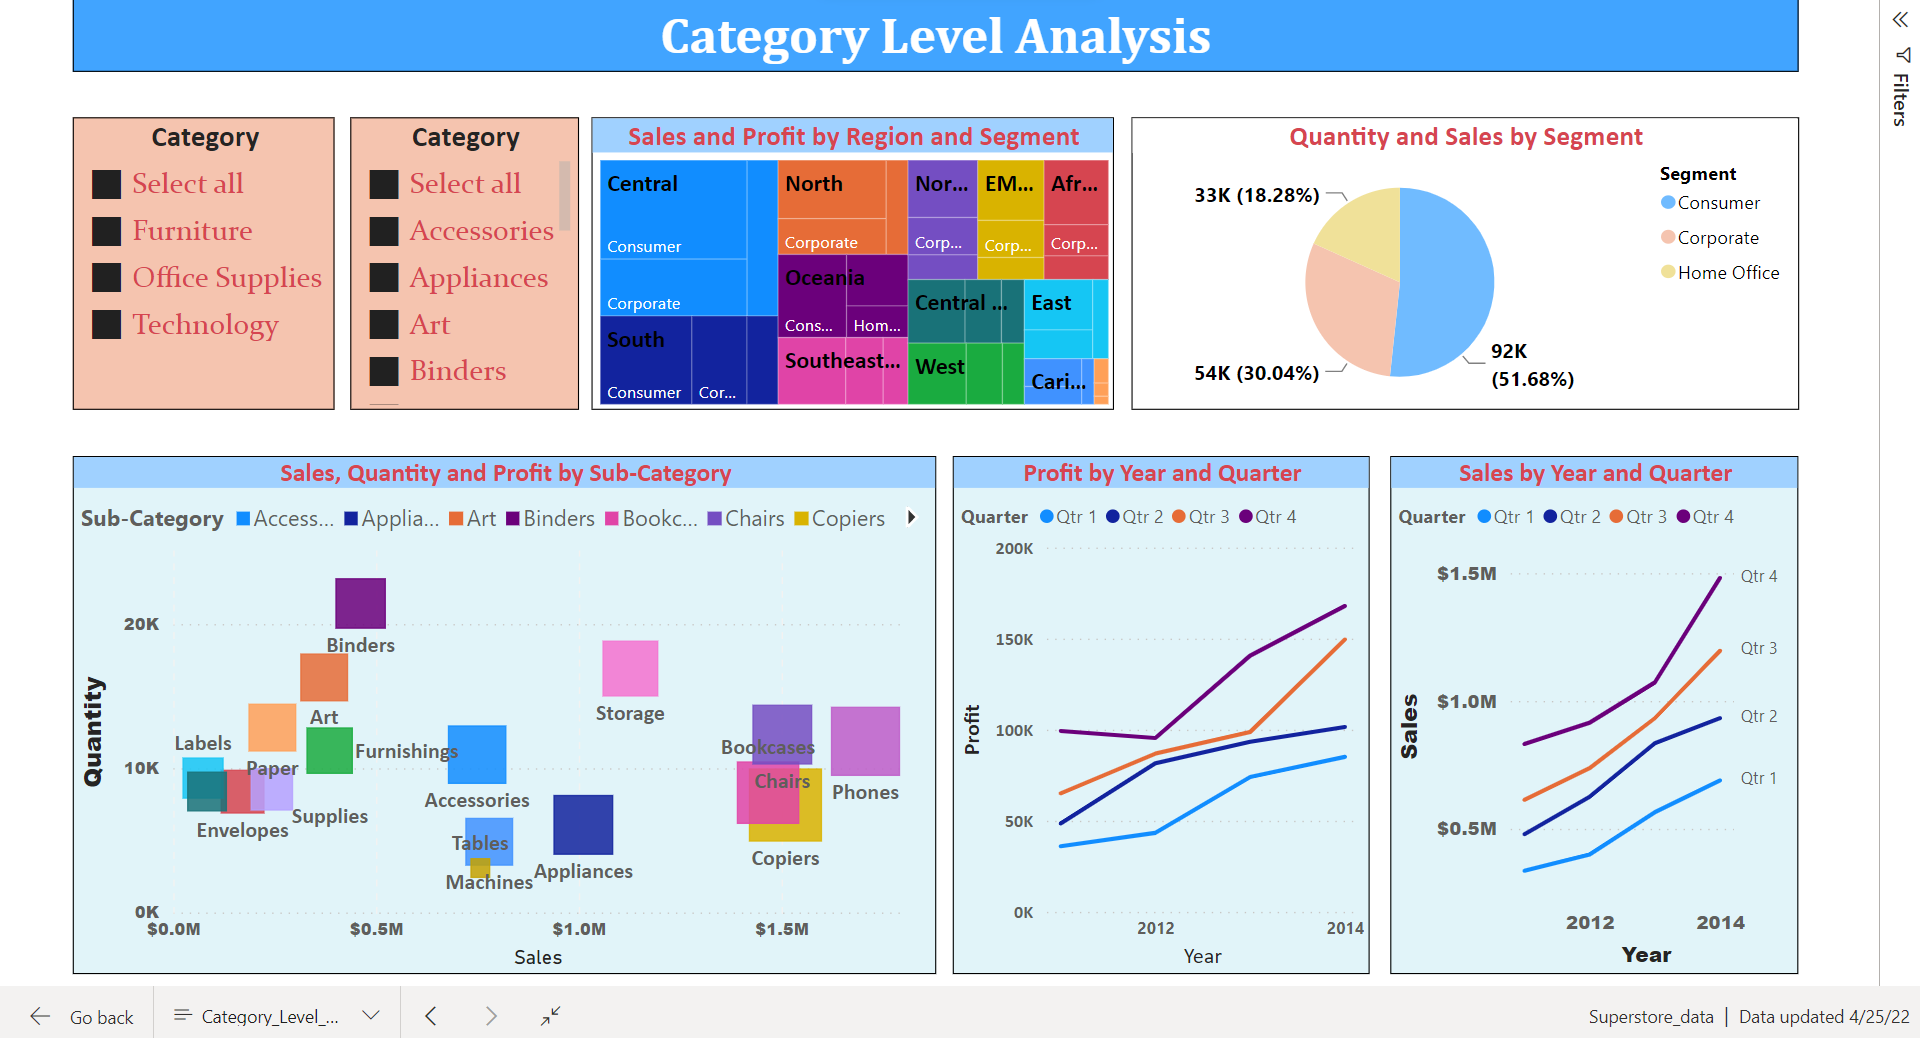

What the dashboard file says about the page in this screenshot:
{"tool":"powerbi","page":{"name":"Category_Level_Analysis","canvas":[1280,720],"ordinal":2},"visuals":[{"type":"textbox","box":[9.8,0,1255.4,55],"z":0},{"type":"treemap","fields":{"Details":["Orders.Segment"],"Values":["Sum(Orders.Sales)"],"Group":["Orders.Region"]},"box":[387.5,88,380.2,212.7],"z":1000},{"type":"slicer","title":"Category","fields":{"Values":["Orders.Category"]},"box":[9.8,88,190.7,212.7],"z":2000},{"type":"slicer","title":"Category","fields":{"Values":["Orders.Sub-Category"]},"box":[211.5,88,166.2,212.7],"z":3000},{"type":"pieChart","fields":{"Category":["Orders.Segment"],"Y":["Sum(Orders.Quantity)"]},"box":[779.9,88,485.3,212.7],"z":4000},{"type":"scatterChart","fields":{"Series":["Orders.Sub-Category"],"X":["Sum(Orders.Sales)"],"Y":["Sum(Orders.Quantity)"],"Size":["Sum(Orders.Profit)"]},"box":[9.8,334.9,628.3,376.5],"z":5000},{"type":"lineChart","fields":{"Category":["Orders.Year"],"Series":["Orders.Quarter"],"Y":["Sum(Orders.Profit)"]},"box":[650.3,334.9,303.2,376.5],"z":6000},{"type":"lineChart","fields":{"Category":["Orders.Year"],"Series":["Orders.Quarter"],"Y":["Sum(Orders.Sales)"]},"box":[968.1,334.9,297,376.5],"z":7000}]}

Visuals, with their boxes in screenshot pixels (x1, y1, x2, y2):
textbox: (left=68, top=0, right=1793, bottom=66)
treemap - Orders.Segment x Sum(Orders.Sales): (left=587, top=111, right=1110, bottom=403)
"Category" slicer: (left=68, top=111, right=330, bottom=403)
"Category" slicer: (left=346, top=111, right=574, bottom=403)
pieChart - Orders.Segment x Sum(Orders.Quantity): (left=1127, top=111, right=1793, bottom=403)
scatterChart - Orders.Sub-Category x Sum(Orders.Sales): (left=68, top=450, right=932, bottom=967)
lineChart - Orders.Year x Orders.Quarter: (left=948, top=450, right=1365, bottom=967)
lineChart - Orders.Year x Orders.Quarter: (left=1385, top=450, right=1793, bottom=967)
